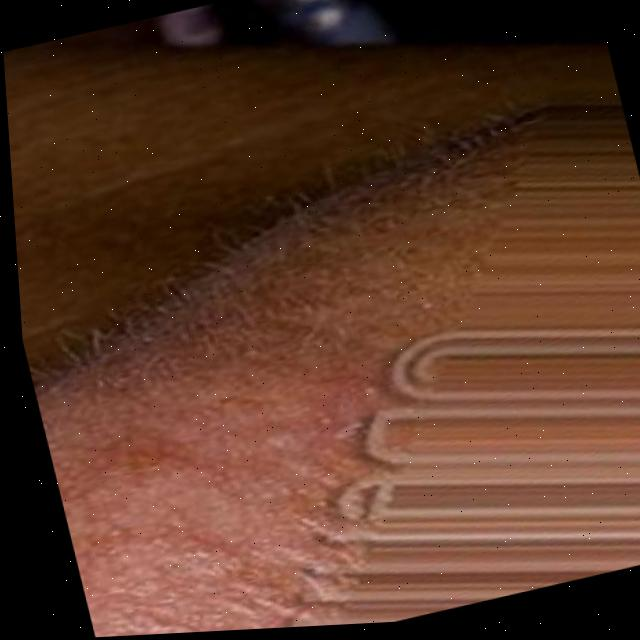Rosacea: (68, 414, 282, 598)
